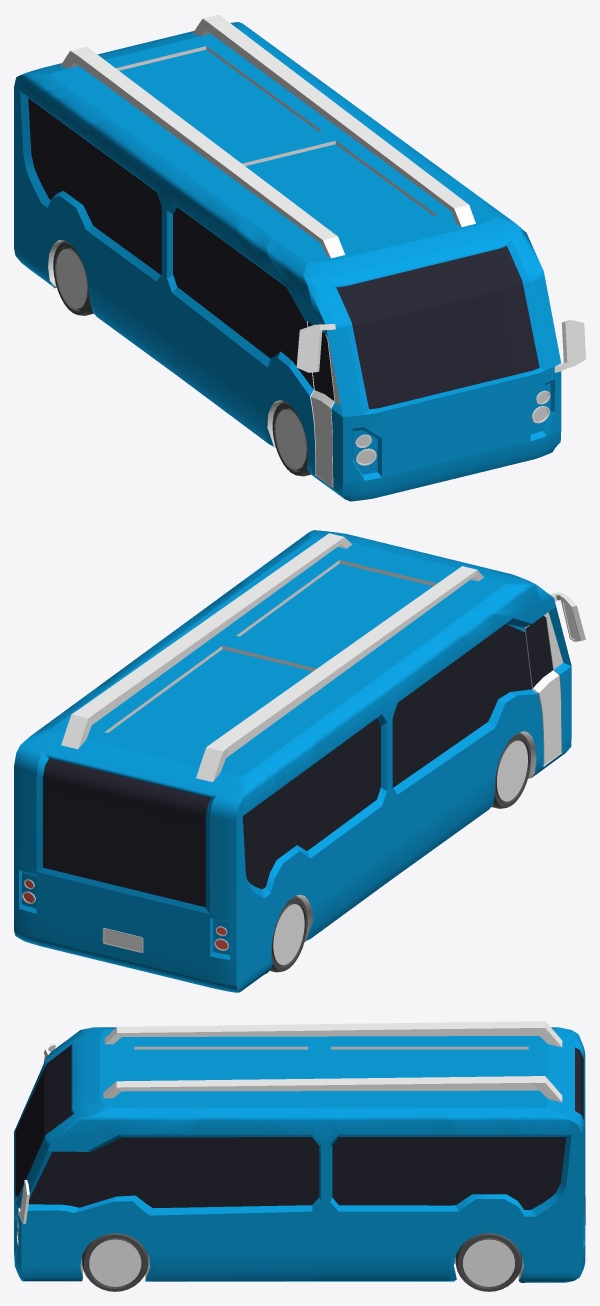
Rendered from 2. SportCarMax.fbx.
3 renders of one model, top to bottom at view 1: azimuth 30°, elevation 25°; view 2: azimuth 150°, elevation 25°; view 3: azimuth 270°, elevation 25°, orthographic. The views are drawn at different scales.
Visible parts, largest first — view 1: SportCarMax; view 2: SportCarMax; view 3: SportCarMax.
Boxes of the visible parts, x1,y1,x2,y2 form: SportCarMax: (14, 14, 585, 501); SportCarMax: (14, 530, 585, 992); SportCarMax: (14, 1021, 585, 1291).
Bounding box in the file's own units: 1.53 × 3.23 × 1.23.
